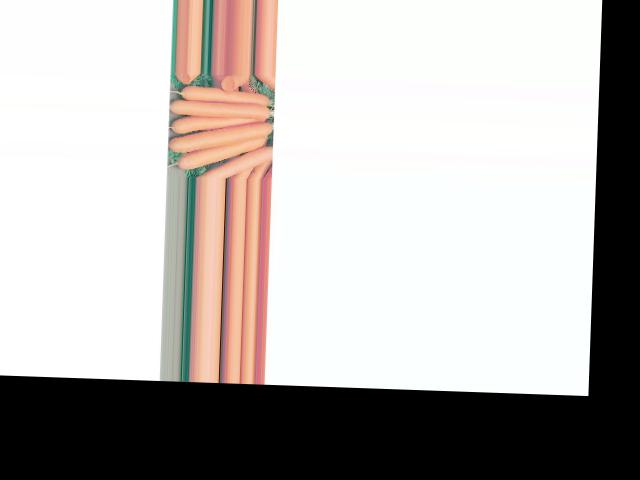carrot: (165, 117, 272, 152)
